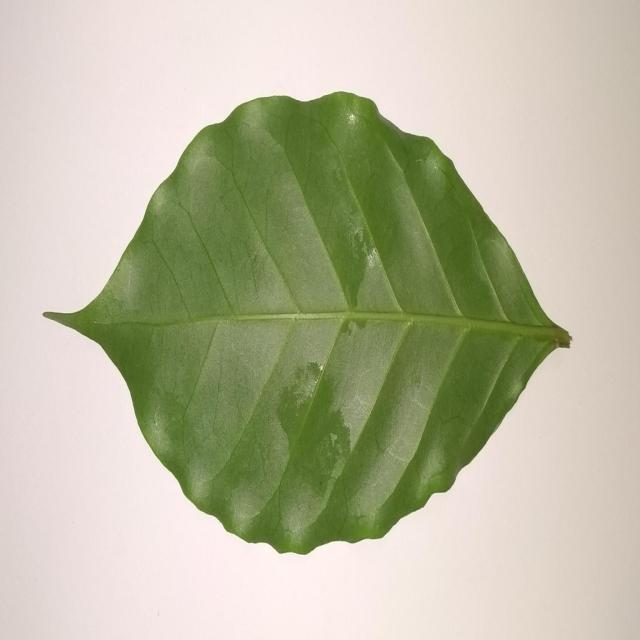Sanas: (42, 92, 572, 558)
